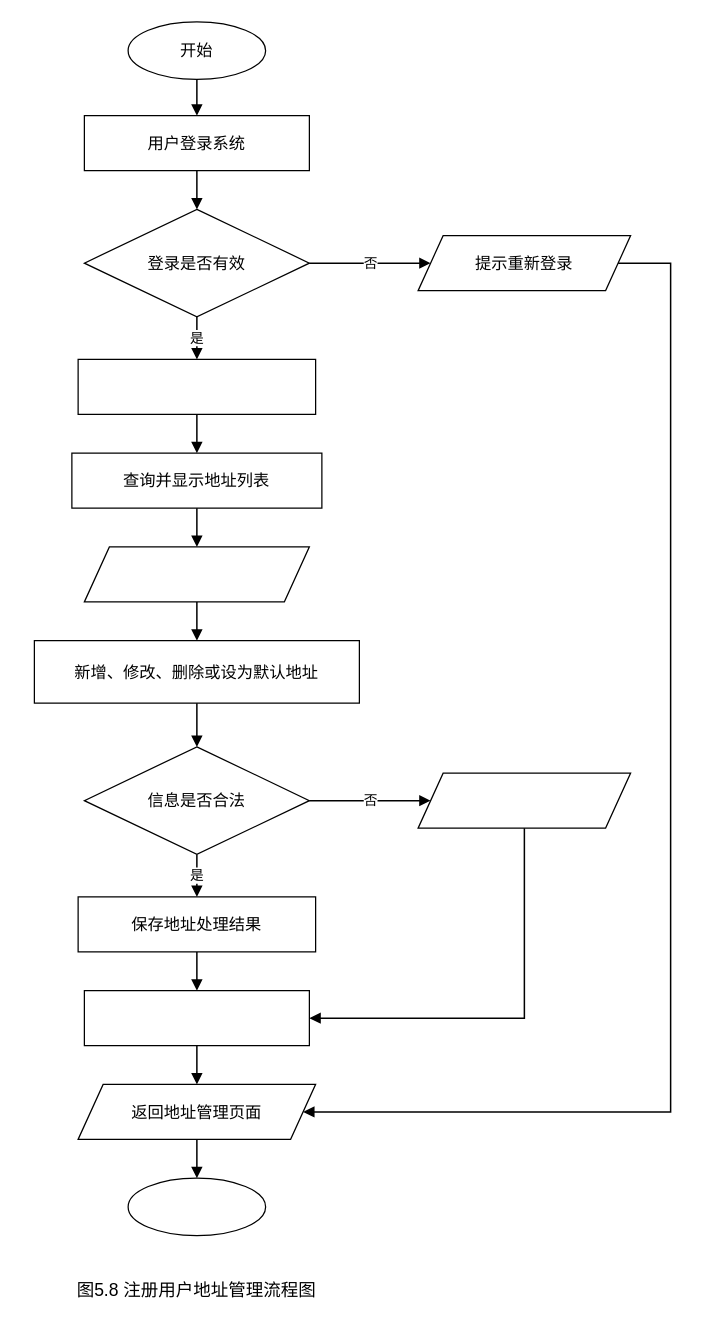
Some shapes in this 703 by 1331 pixel diagram are drawn without their labels. The centre of each missing label's shape, as x and y in pixels:
"刷新地址列表" goes at (196,1017).
"结束" goes at (196,1206).
"返回错误提示" goes at (524,800).
"进入地址管理页面" goes at (196,386).
"选择地址操作" goes at (196,574).
